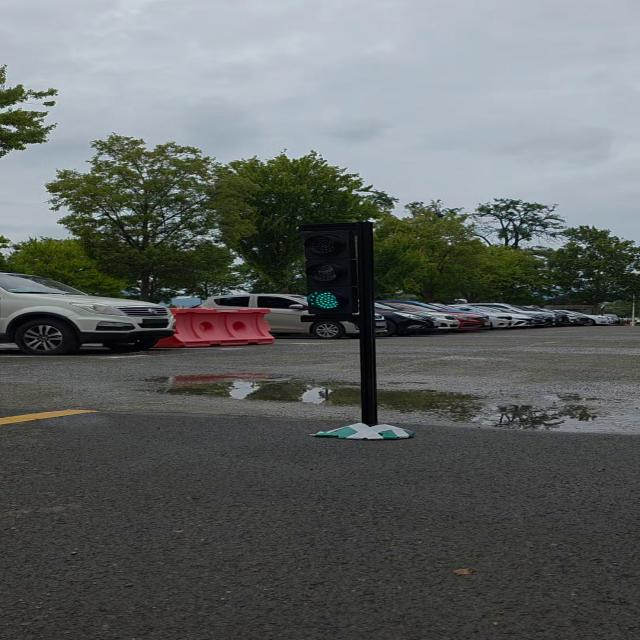green: (296, 226, 376, 320)
